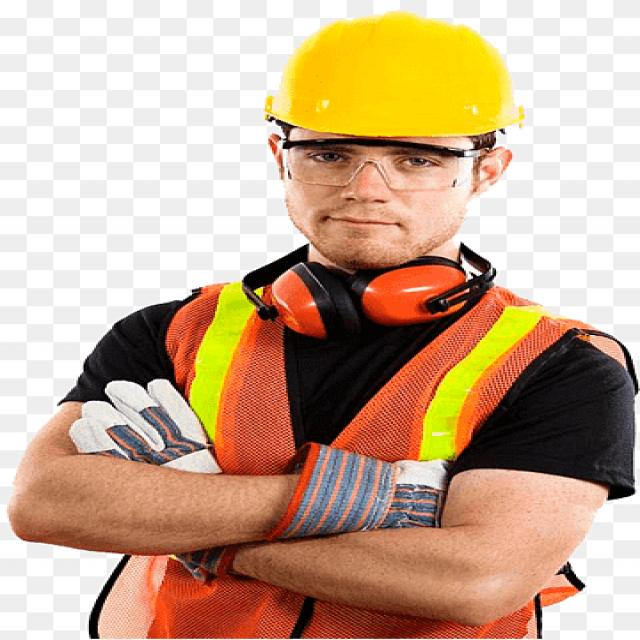Boots: (63, 368, 489, 566)
